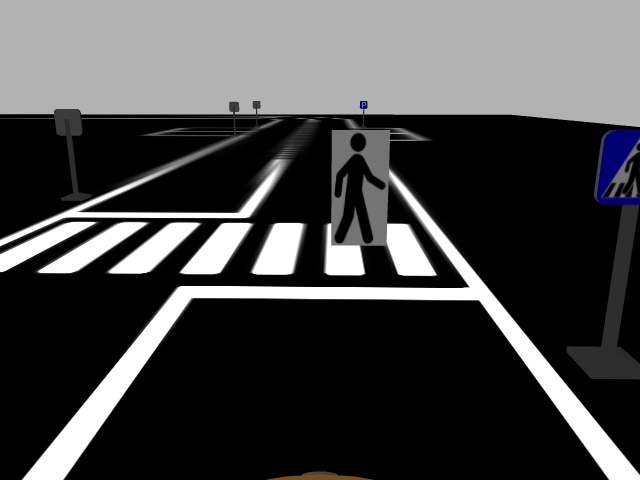parking: (358, 99, 369, 111)
pedestrian: (330, 127, 389, 246)
